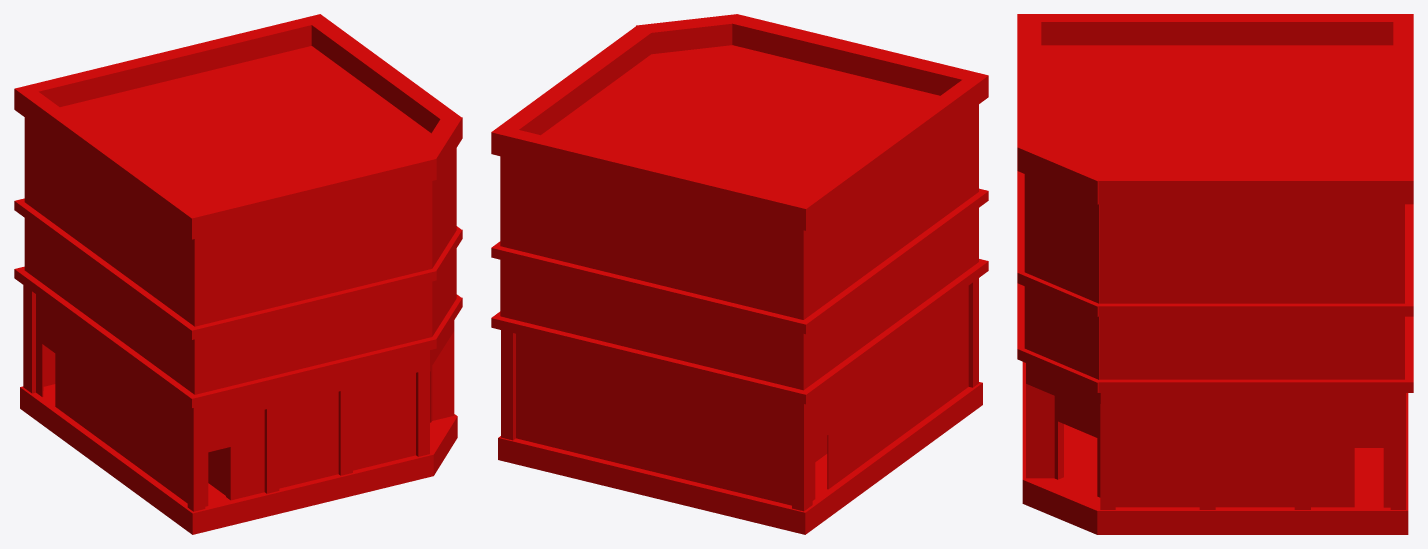
File: SM_Bld_Shop_Large_01_Collision.fbx
The picture shows the model from 3 angles, left to right: view 1: azimuth 30°, elevation 25°; view 2: azimuth 150°, elevation 25°; view 3: azimuth 270°, elevation 25°; orthographic projection. The views are drawn at different scales.
Parts seen in each view (by area): view 1: SM_Bld_Shop_Large_01_Collision; view 2: SM_Bld_Shop_Large_01_Collision; view 3: SM_Bld_Shop_Large_01_Collision.
Part boxes in pixels (<box>): SM_Bld_Shop_Large_01_Collision: <box>14,14,462,534</box>; SM_Bld_Shop_Large_01_Collision: <box>491,14,988,534</box>; SM_Bld_Shop_Large_01_Collision: <box>1017,14,1413,534</box>.
Size of the model in its own units: 1431 by 1423 by 1435.
